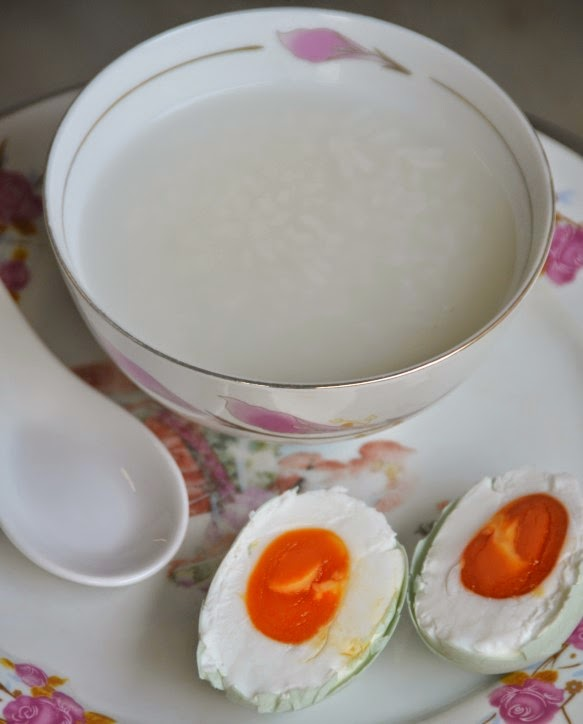fried egg: (238, 498, 366, 682), (455, 498, 573, 636)
plain rice: (163, 130, 438, 322)
